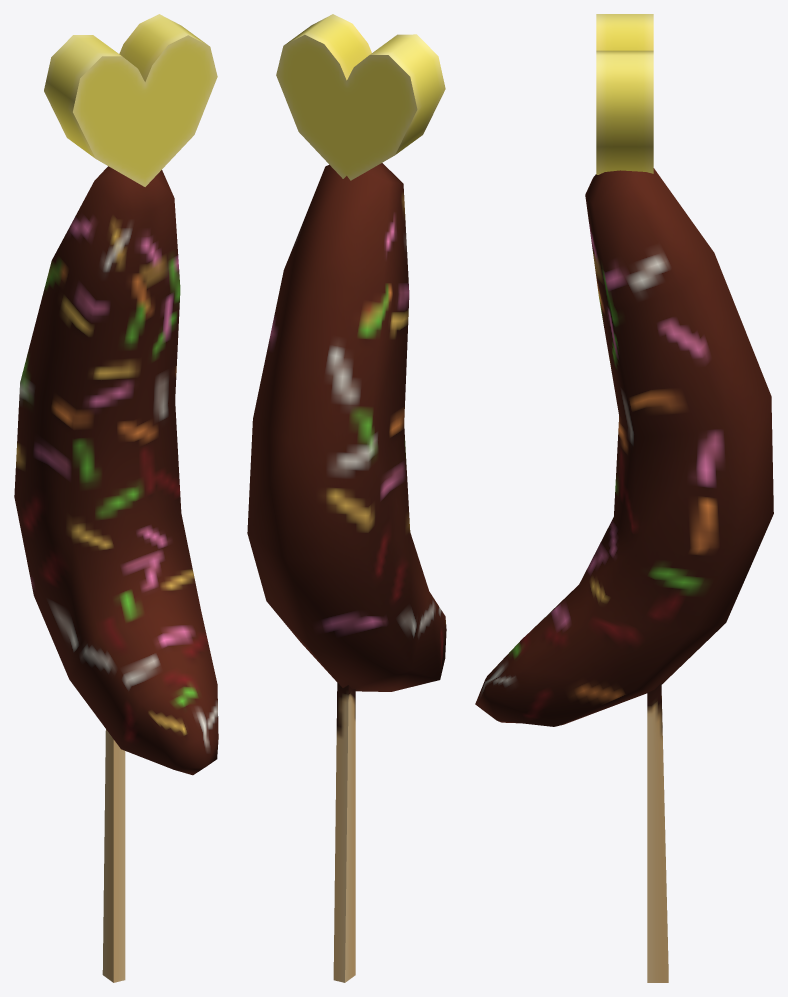
Rendered from jsf_ChocolateBanana_a05_c01.fbx.
3 renders of one model, left to right at view 1: azimuth 30°, elevation 25°; view 2: azimuth 150°, elevation 25°; view 3: azimuth 270°, elevation 25°, orthographic. The views are drawn at different scales.
Parts seen in each view (by area): view 1: jsf_ChocolateBanana_a05_c01; view 2: jsf_ChocolateBanana_a05_c01; view 3: jsf_ChocolateBanana_a05_c01.
Boxes of the visible parts, left/top/right/bottom form: jsf_ChocolateBanana_a05_c01: left=14, top=14, right=218, bottom=982; jsf_ChocolateBanana_a05_c01: left=247, top=14, right=446, bottom=982; jsf_ChocolateBanana_a05_c01: left=475, top=14, right=773, bottom=982.
Bounding box in the file's own units: 4.34 × 27.32 × 7.83.
